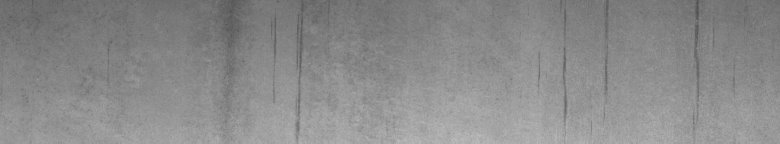ka: (538, 4, 608, 121)
